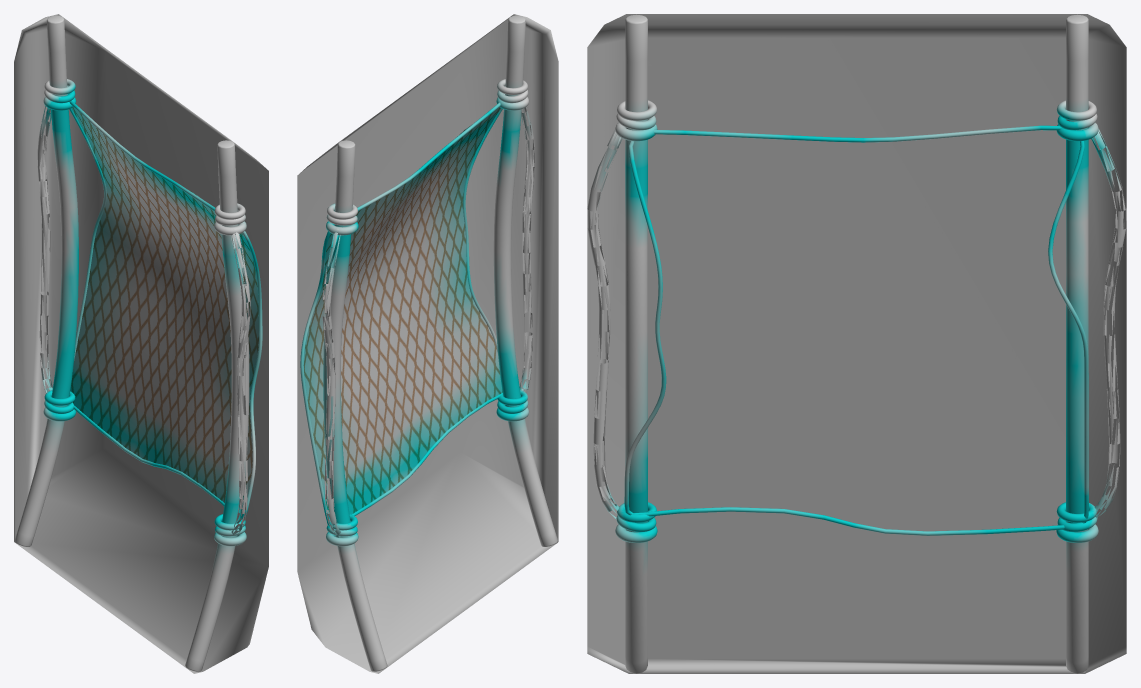
Rendered from SM_Fishnet.gltf.
The picture shows the model from 3 angles, left to right: view 1: azimuth 30°, elevation 25°; view 2: azimuth 150°, elevation 25°; view 3: azimuth 270°, elevation 25°; orthographic projection. The views are drawn at different scales.
Parts seen in each view (by area): view 1: SM_Fishnet_ConvexHulls, SM_Fishnet_LOD0; view 2: SM_Fishnet_ConvexHulls, SM_Fishnet_LOD0; view 3: SM_Fishnet_ConvexHulls, SM_Fishnet_LOD0.
Boxes of the visible parts, x1,y1,x2,y2 form: SM_Fishnet_ConvexHulls: (14,14,268,673); SM_Fishnet_LOD0: (14,15,262,671); SM_Fishnet_ConvexHulls: (297,14,558,673); SM_Fishnet_LOD0: (300,15,557,671); SM_Fishnet_ConvexHulls: (587,14,1126,673); SM_Fishnet_LOD0: (587,14,1126,673).
Size of what is drawn, in the model's own units: 0.9391 by 5.2 by 3.78.
